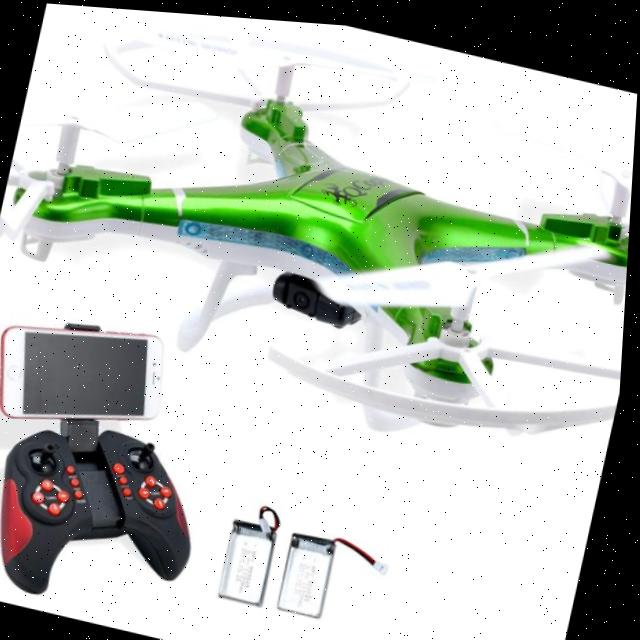drones: (0, 0, 640, 479)
